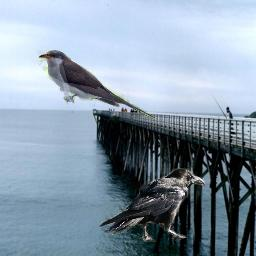Crow: (98, 167, 205, 245)
Cuckoo: (37, 50, 155, 121)
